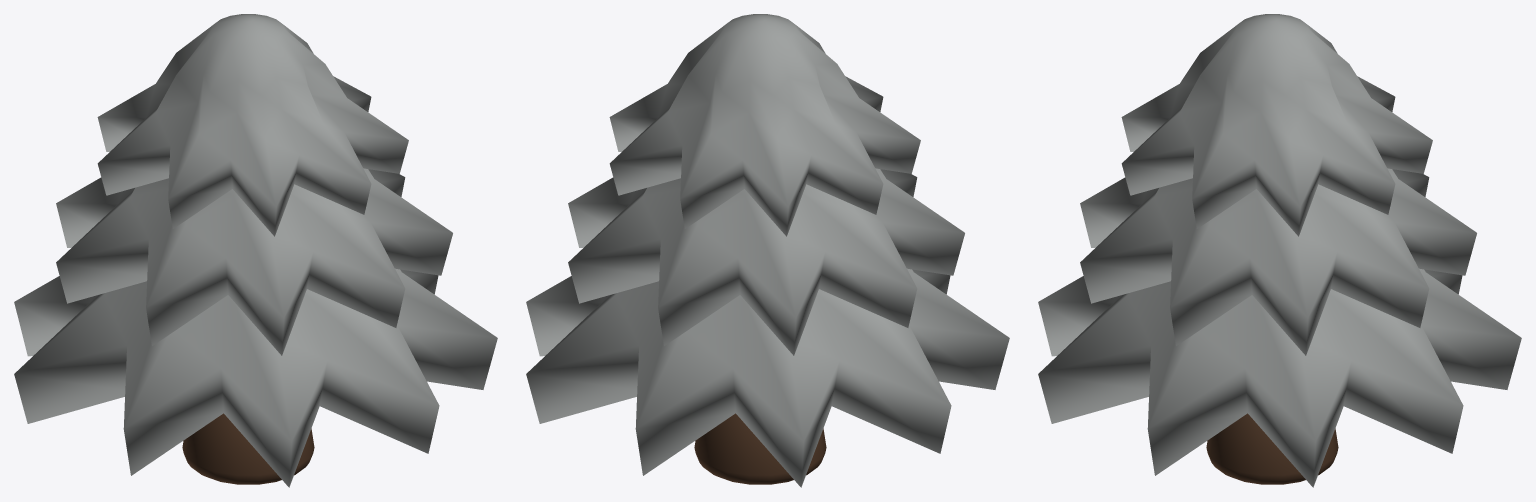
Rendered from christsmastrree.glb.
3 views of the same model, side by side, from view 1: azimuth 30°, elevation 25°; view 2: azimuth 150°, elevation 25°; view 3: azimuth 270°, elevation 25° (orthographic).
Parts seen in each view (by area): view 1: LeafBottom, LeafMiddle, LeafTop, Tree; view 2: LeafBottom, LeafMiddle, LeafTop, Tree; view 3: LeafBottom, LeafMiddle, LeafTop, Tree.
Part boxes in pixels (left/top/right/bottom): LeafBottom: left=14, top=268, right=497, bottom=487; LeafMiddle: left=56, top=168, right=452, bottom=355; LeafTop: left=97, top=14, right=408, bottom=236; Tree: left=182, top=413, right=314, bottom=484; LeafBottom: left=526, top=268, right=1009, bottom=487; LeafMiddle: left=568, top=168, right=964, bottom=355; LeafTop: left=609, top=14, right=920, bottom=236; Tree: left=694, top=413, right=826, bottom=484; LeafBottom: left=1038, top=268, right=1521, bottom=487; LeafMiddle: left=1080, top=168, right=1476, bottom=355; LeafTop: left=1121, top=14, right=1432, bottom=236; Tree: left=1206, top=413, right=1338, bottom=484.
Size of the model in its own units: 2.59 by 2.64 by 2.55.
